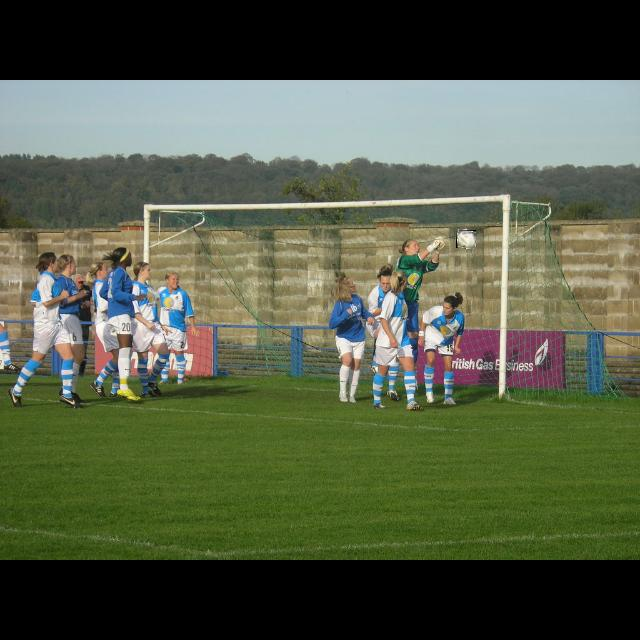Football: (456, 230, 476, 248)
